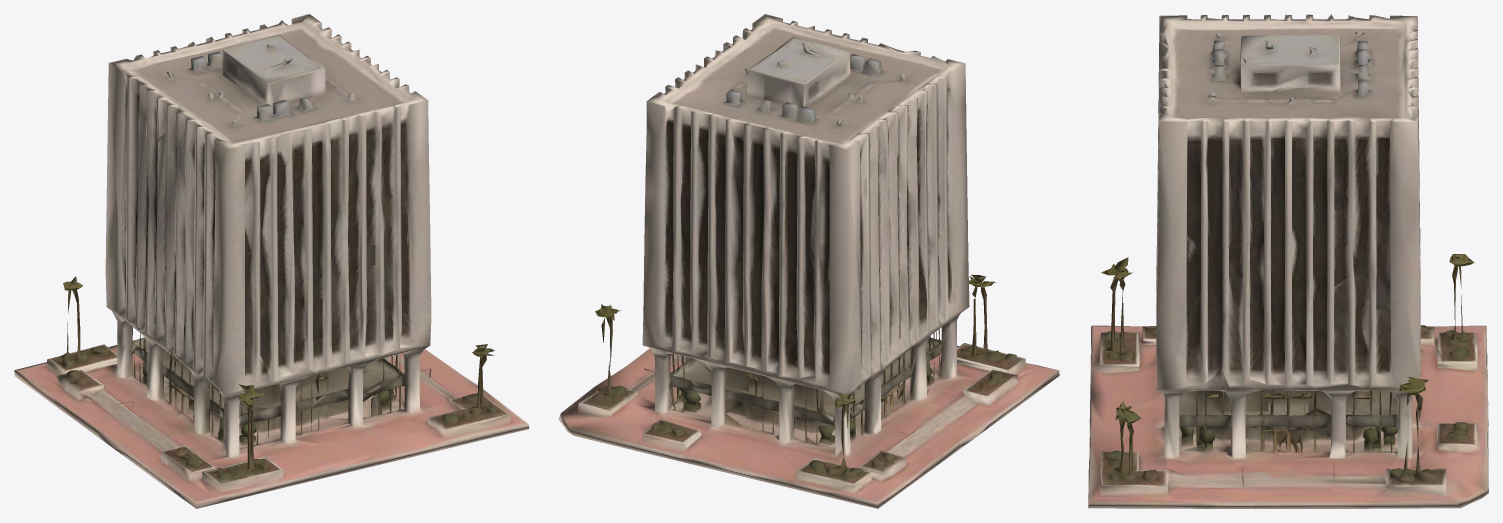
The model's file is lm_court.glb.
3 renders of one model, left to right at view 1: azimuth 30°, elevation 25°; view 2: azimuth 150°, elevation 25°; view 3: azimuth 270°, elevation 25°, orthographic. The views are drawn at different scales.
Visible parts, largest first — view 1: tripo_node_6ee37578-6a20-47ed-aa09-9b34cdeb5529; view 2: tripo_node_6ee37578-6a20-47ed-aa09-9b34cdeb5529; view 3: tripo_node_6ee37578-6a20-47ed-aa09-9b34cdeb5529.
Boxes of the visible parts, x1=… form: tripo_node_6ee37578-6a20-47ed-aa09-9b34cdeb5529: x1=14, y1=14, x2=529, y2=508; tripo_node_6ee37578-6a20-47ed-aa09-9b34cdeb5529: x1=558, y1=14, x2=1059, y2=508; tripo_node_6ee37578-6a20-47ed-aa09-9b34cdeb5529: x1=1088, y1=14, x2=1488, y2=508.
Bounding box in the file's own units: 0.9927 × 0.9999 × 0.9489.
Materials: 1 (1 with a texture image).
